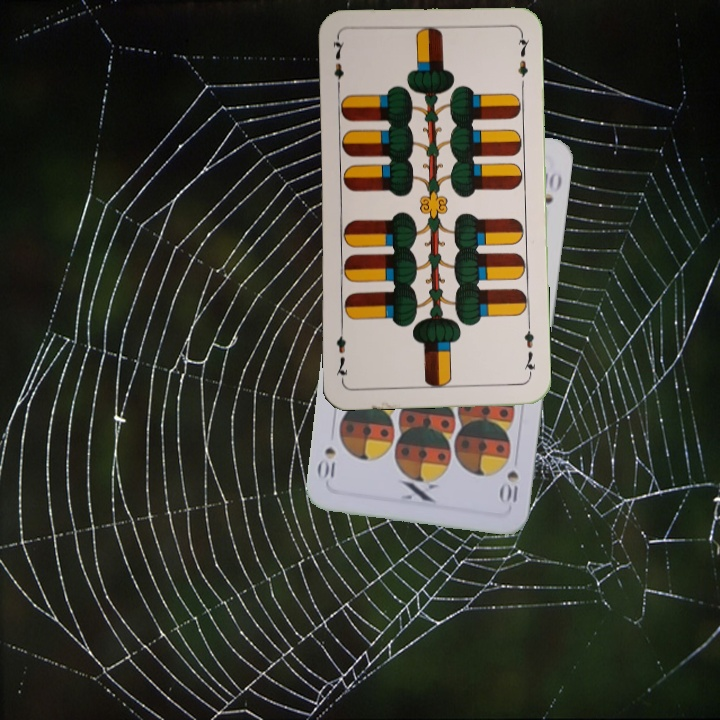E7: (520, 320, 539, 379), (328, 35, 346, 94)
S10: (498, 466, 521, 505)
